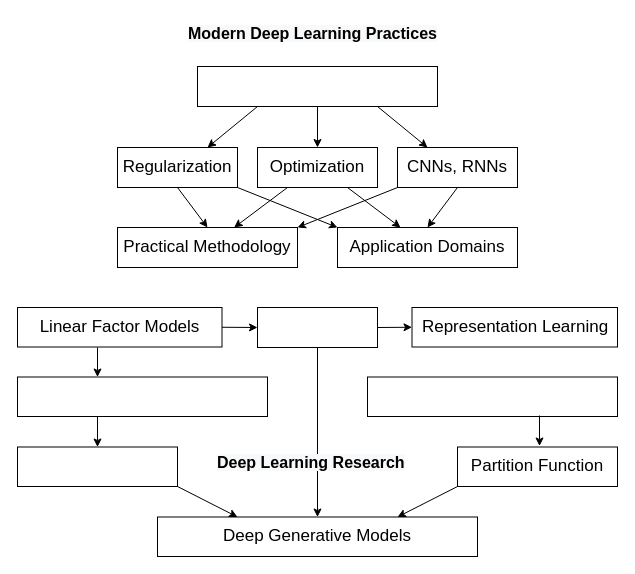
Some shapes in this 635 by 574 pixel diagram are drawn without their labels. The shapes that lost their labels are listed below. From the top down, each one's centre as x and y in pixels, then its label:
point 317,86: Deep Feedforward Networks
point 317,327: Autoencoders
point 142,396: Structured Probabilistic Models
point 492,396: Monte Carlo Methods
point 97,466: Inference
